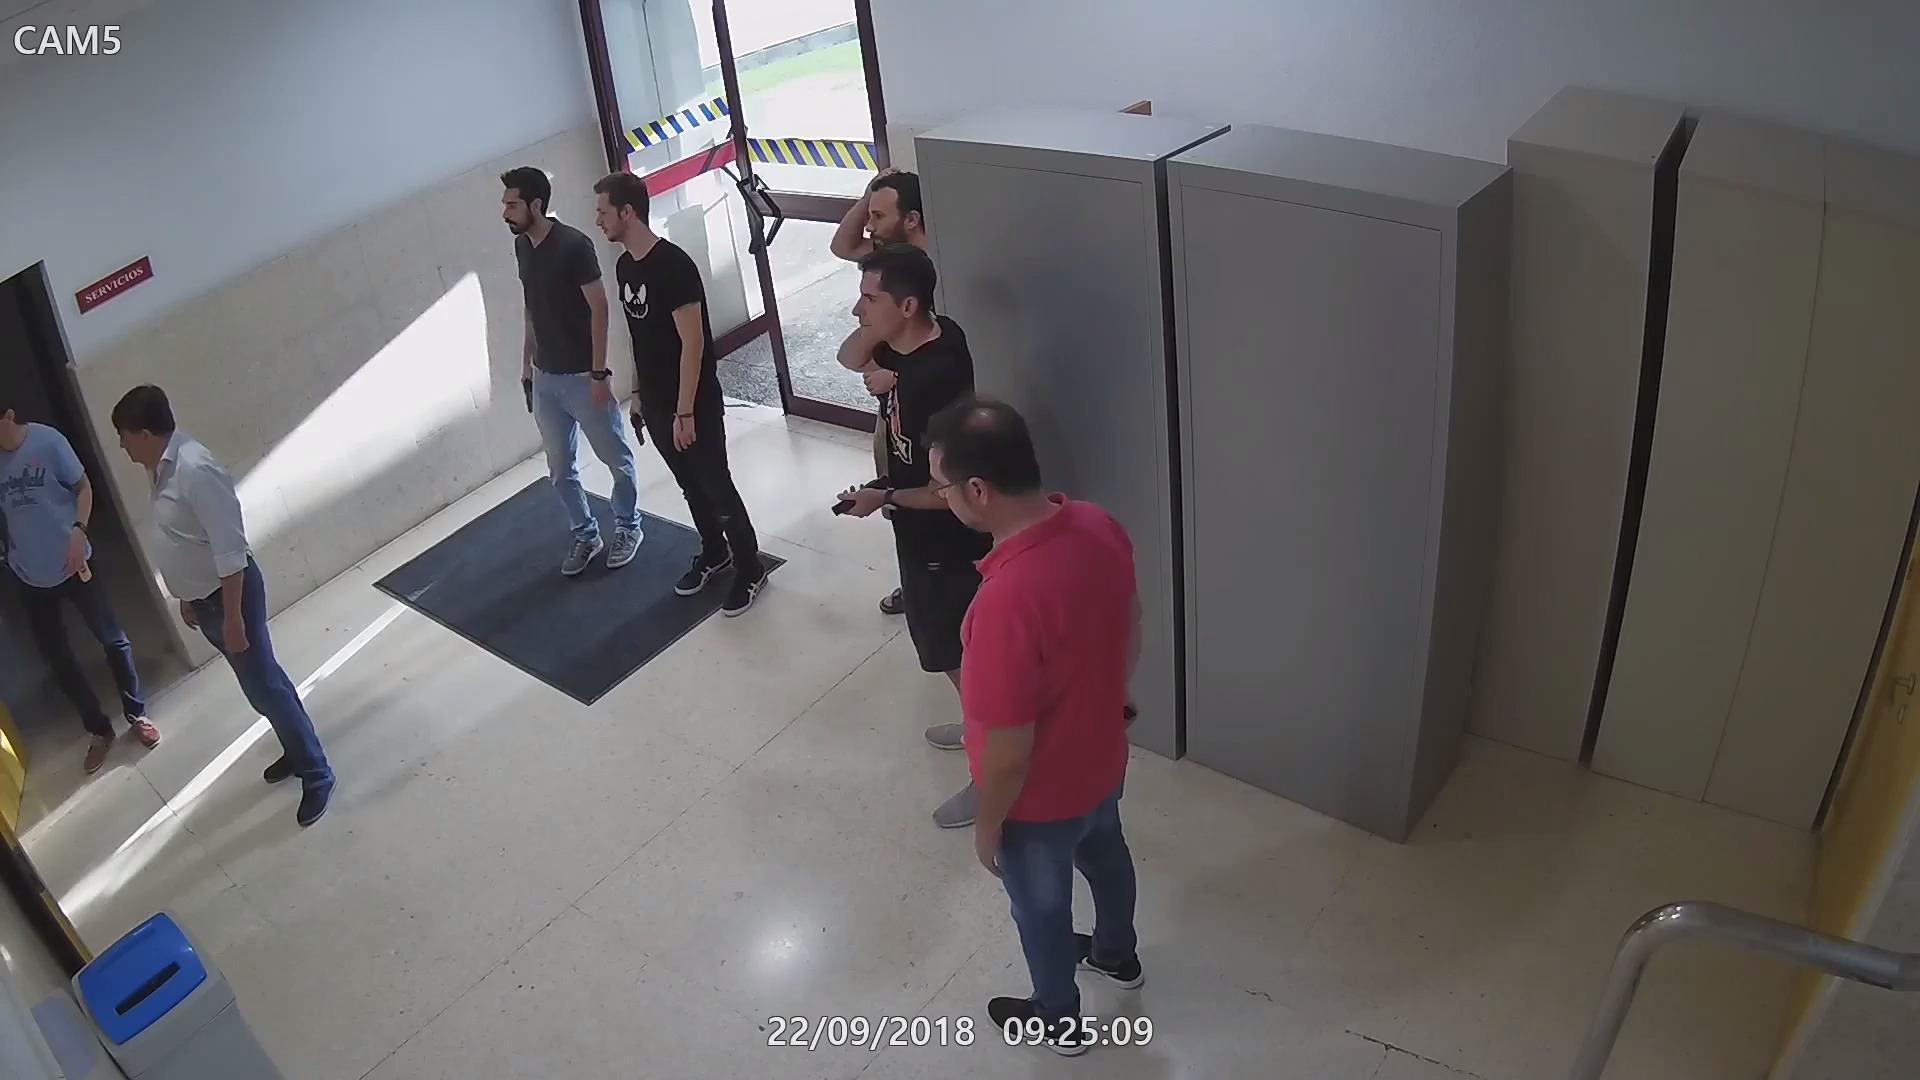pistol: (829, 471, 893, 520), (625, 382, 651, 444), (513, 363, 539, 415)
